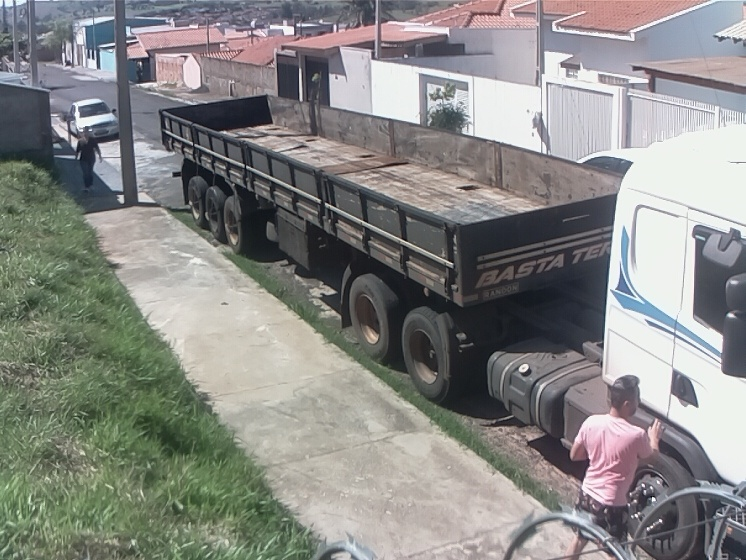person: (567, 373, 665, 560), (73, 125, 105, 194)
